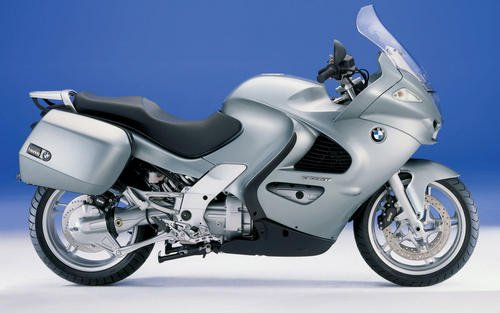motor: (21, 19, 482, 288)
